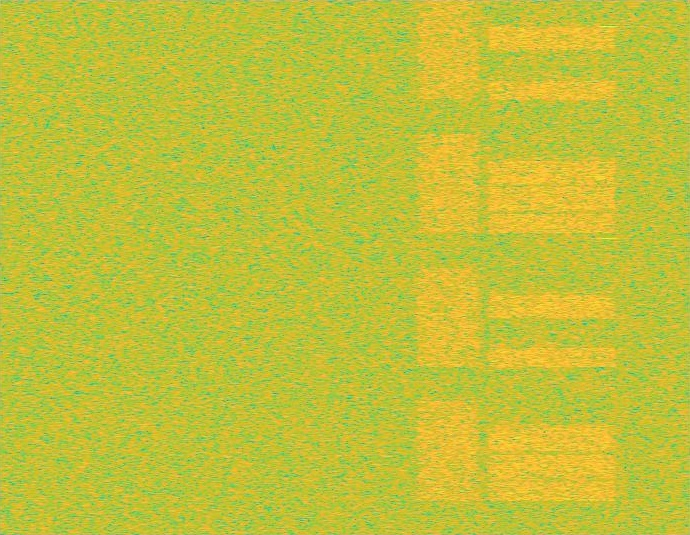5G: (414, 0, 483, 534)
LTE: (483, 0, 621, 534)
Radar: (601, 0, 615, 534)
